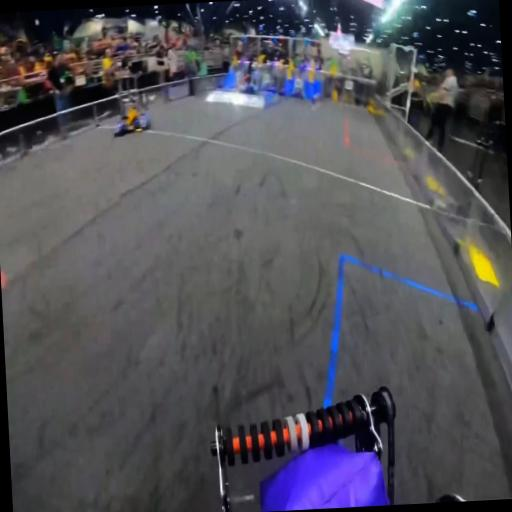robot: (108, 72, 152, 138), (238, 50, 260, 96)
